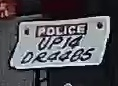1: (62, 36, 71, 48)
4: (69, 34, 84, 50), (59, 51, 73, 62), (48, 50, 60, 62)
5: (80, 48, 94, 62)
8: (71, 49, 83, 63)
D: (21, 51, 35, 65)
P: (50, 36, 62, 48)
R: (32, 51, 47, 64)
U: (36, 36, 50, 52)
